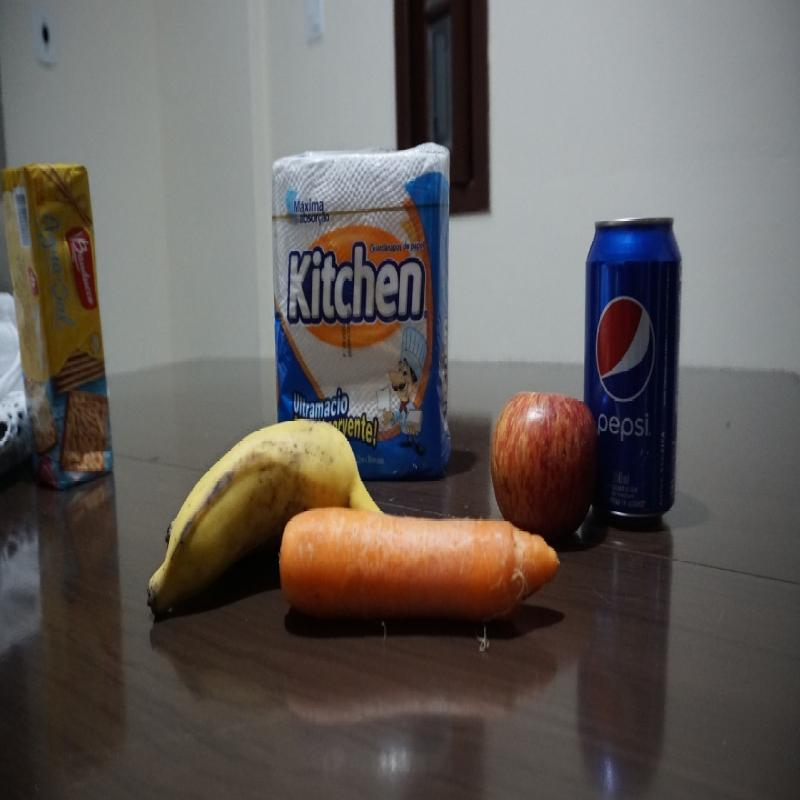Apple: (489, 389, 602, 551)
Banana: (145, 415, 387, 625)
Carrot: (274, 503, 565, 618)
Cracker: (0, 157, 117, 492)
Napkin: (269, 142, 454, 480)
Soda can: (580, 214, 684, 530)
